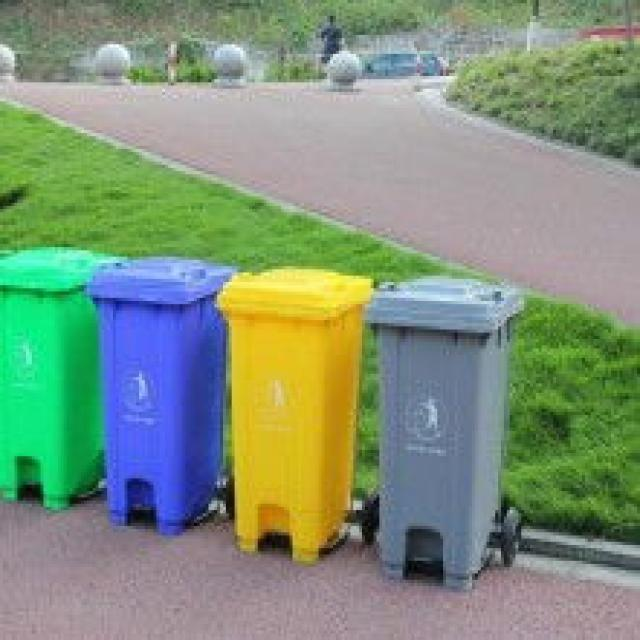garbage_bin: (362, 272, 521, 583), (211, 263, 368, 561), (84, 253, 232, 532), (0, 244, 125, 507)
